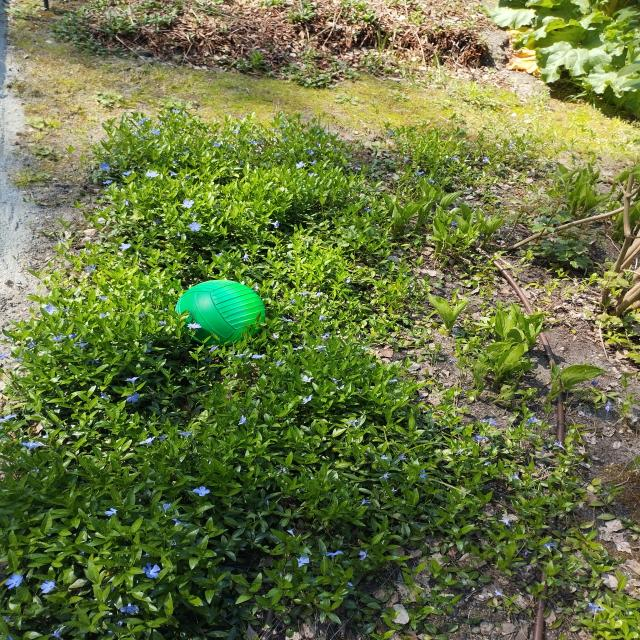zielona: (178, 280, 268, 344)
